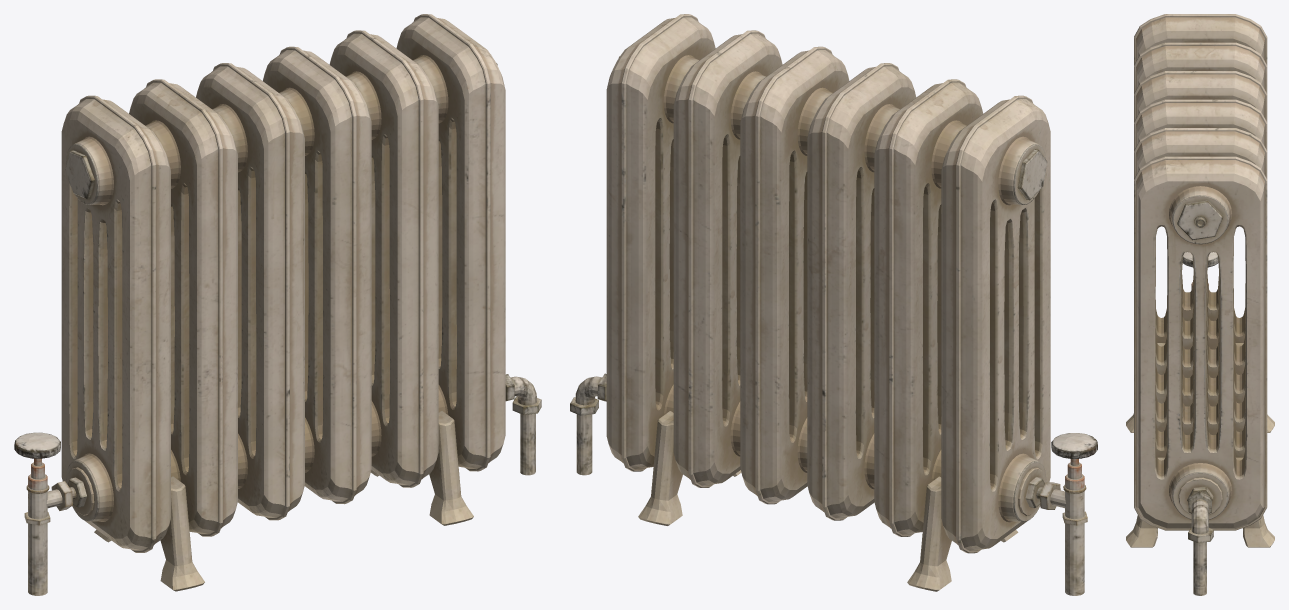
Rendered from LBIEJVJ5WQ38A21GOY8QEG7K4.obj.
3 views of the same model, side by side, from view 1: azimuth 30°, elevation 25°; view 2: azimuth 150°, elevation 25°; view 3: azimuth 270°, elevation 25° (orthographic). The views are drawn at different scales.
Visible parts, largest first — view 1: Object_TexMap_0; view 2: Object_TexMap_0; view 3: Object_TexMap_0.
Boxes of the visible parts, bbox=[...] form: Object_TexMap_0: bbox=[14, 14, 541, 595]; Object_TexMap_0: bbox=[570, 14, 1097, 595]; Object_TexMap_0: bbox=[1126, 14, 1274, 595].
Bounding box in the file's own units: 2.5 × 2.11 × 0.7055.
Materials: 1 (1 with a texture image).
